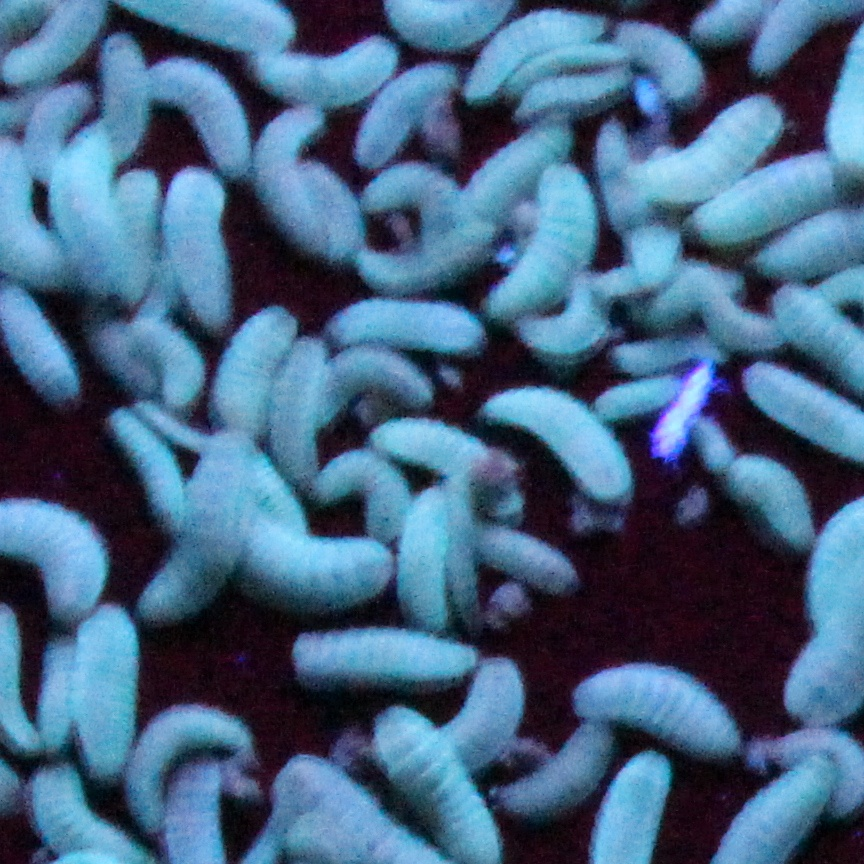larve: (479, 364, 632, 498), (486, 164, 605, 326), (570, 649, 750, 756), (146, 438, 252, 618), (634, 86, 790, 195), (125, 700, 254, 824), (54, 115, 132, 291), (290, 626, 479, 696), (248, 27, 399, 111), (465, 7, 610, 93), (239, 529, 390, 609), (426, 653, 528, 771), (165, 169, 236, 331), (346, 62, 461, 162), (370, 411, 517, 489), (75, 606, 141, 775), (346, 224, 506, 291), (465, 120, 572, 220), (719, 449, 823, 549), (457, 516, 592, 593), (496, 722, 612, 809), (212, 309, 294, 431), (146, 62, 245, 160), (394, 480, 457, 631), (361, 164, 468, 249), (303, 446, 403, 536), (316, 344, 432, 420), (328, 300, 492, 351), (261, 104, 319, 246), (276, 338, 330, 482), (621, 16, 708, 100), (115, 413, 176, 529), (28, 86, 90, 176), (306, 171, 359, 260), (134, 324, 196, 393), (601, 376, 679, 427), (43, 629, 75, 746), (619, 333, 726, 367), (692, 416, 737, 467)
